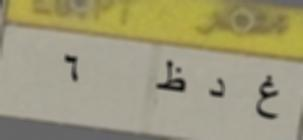6: (60, 50, 82, 88)
Thaa: (153, 54, 188, 96)
daal: (202, 74, 229, 102)
ghayn: (253, 71, 283, 126)
